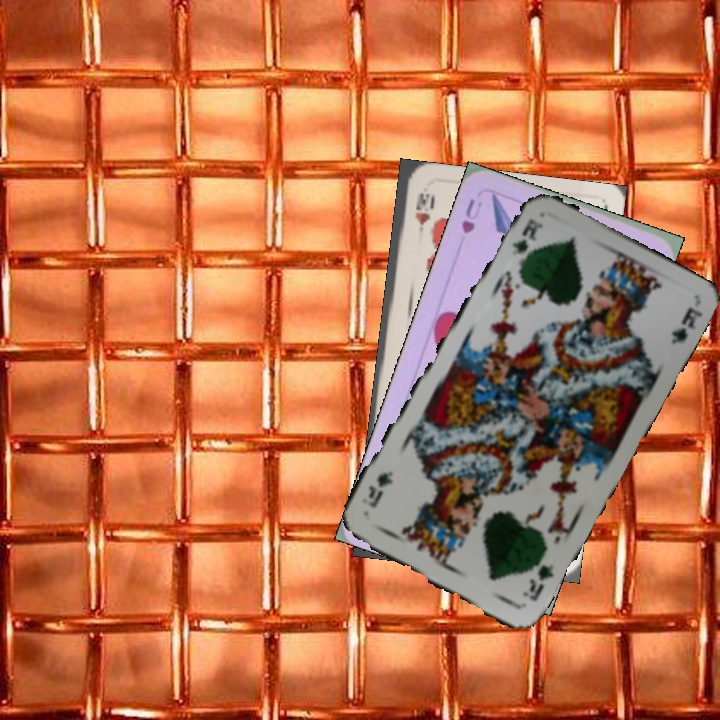GK: (518, 560, 557, 604), (508, 214, 542, 258)
H10: (410, 189, 430, 245)
HU: (457, 194, 485, 237)
